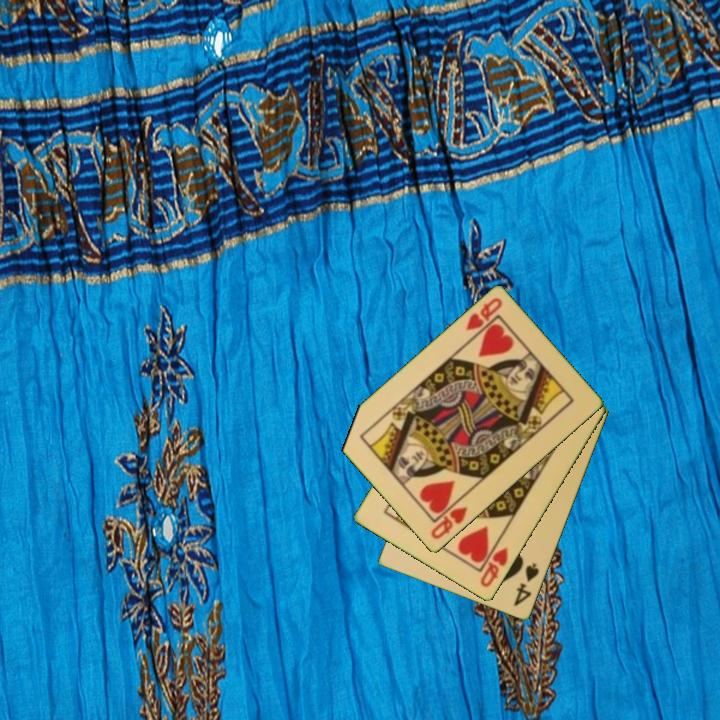4s: (510, 560, 542, 610)
Qh: (427, 503, 471, 543), (462, 295, 505, 334), (477, 544, 511, 591)
